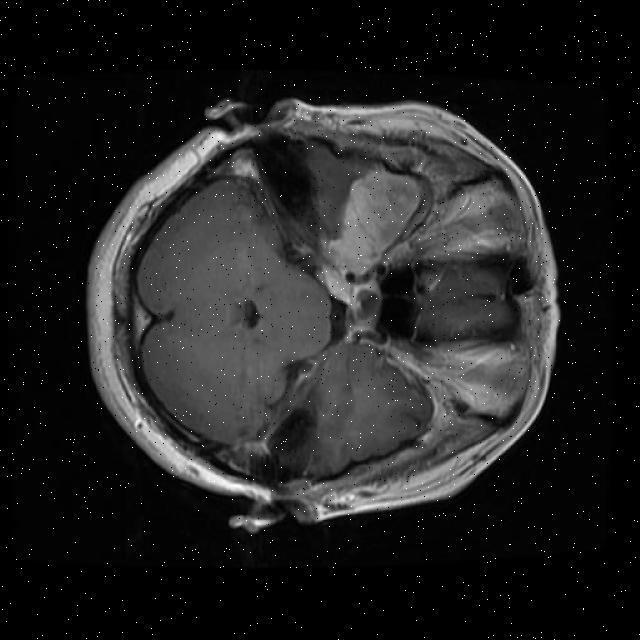Meningioma: (327, 170, 423, 278)
